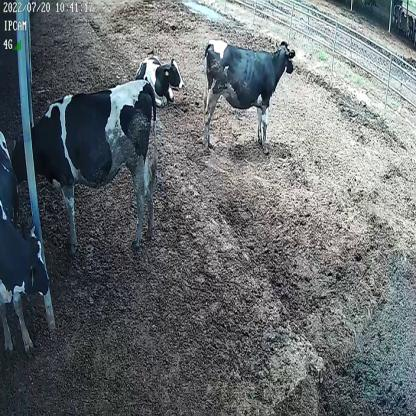cow: (10, 79, 159, 251), (1, 120, 50, 359), (200, 37, 296, 155), (132, 46, 186, 108)
